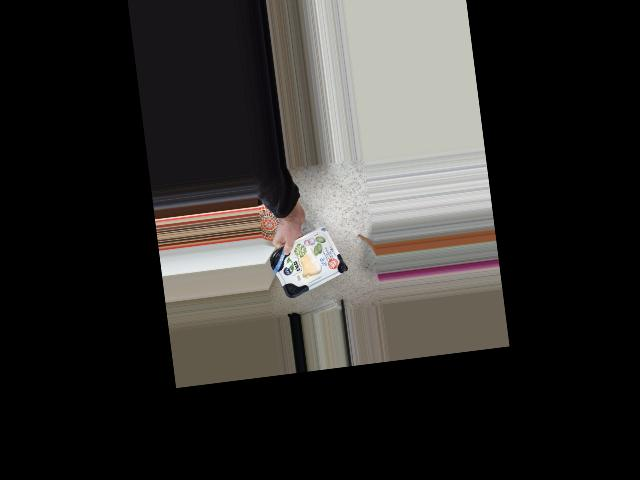cheese: (275, 231, 341, 286)
